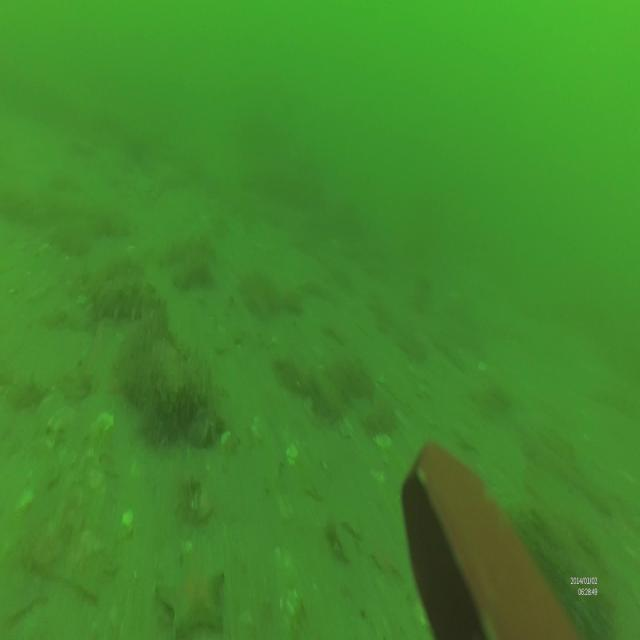starfish: (152, 553, 228, 638)
